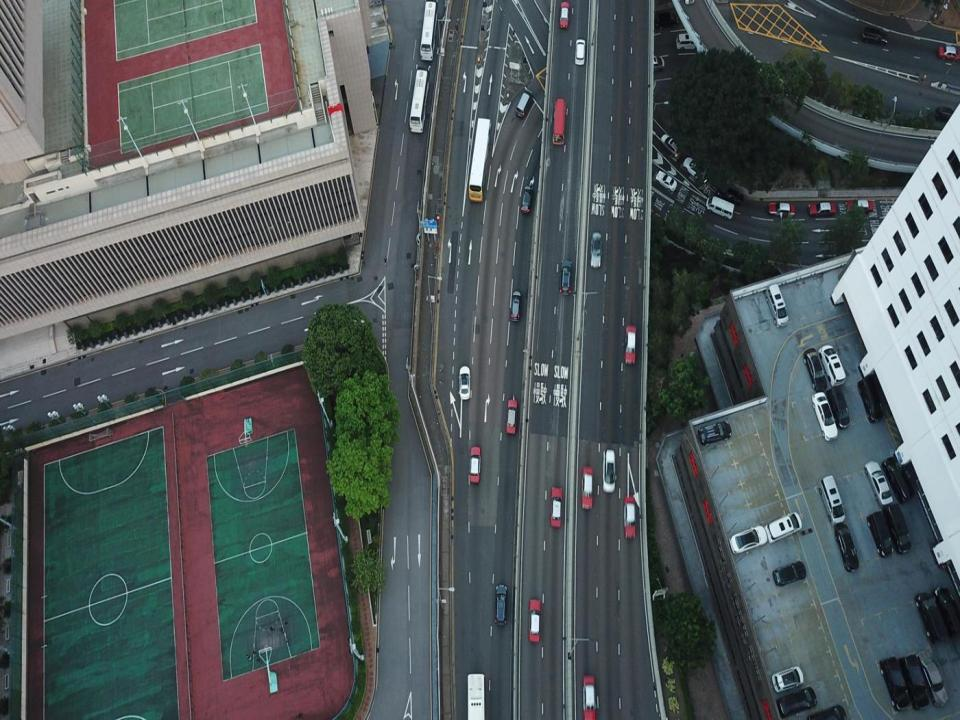bus: (468, 118, 491, 203), (409, 68, 430, 134), (420, 1, 438, 60), (467, 673, 486, 719), (552, 99, 565, 145)
car: (916, 650, 948, 706), (763, 511, 802, 544), (812, 392, 838, 441), (776, 686, 817, 717), (865, 461, 892, 508), (934, 587, 960, 635), (834, 523, 858, 573), (728, 525, 768, 553), (804, 347, 827, 392), (772, 666, 804, 694), (772, 561, 807, 586), (697, 421, 732, 446), (602, 450, 616, 492), (623, 495, 636, 539), (807, 705, 846, 719), (495, 585, 508, 626), (583, 675, 595, 719), (581, 466, 593, 509), (683, 157, 706, 179), (550, 486, 562, 527), (529, 600, 540, 644), (624, 324, 636, 364), (655, 171, 678, 191), (661, 134, 680, 158), (458, 366, 471, 400), (717, 188, 743, 205), (469, 447, 481, 483), (505, 399, 517, 434), (845, 199, 873, 214), (590, 231, 601, 269), (768, 202, 795, 217), (808, 202, 836, 216), (560, 260, 571, 294), (938, 45, 960, 61), (521, 185, 533, 214), (510, 290, 521, 320), (559, 1, 570, 29), (575, 39, 586, 66)
van: (916, 592, 948, 643), (899, 654, 928, 710), (878, 657, 908, 710), (882, 456, 915, 502), (884, 504, 912, 554), (819, 475, 845, 526), (867, 511, 893, 558), (857, 376, 883, 423), (818, 344, 846, 386), (764, 284, 788, 328), (826, 386, 850, 430), (706, 195, 734, 219), (516, 89, 534, 118), (862, 26, 888, 45), (654, 13, 678, 29), (676, 33, 699, 49), (934, 106, 956, 122), (643, 56, 665, 71)
